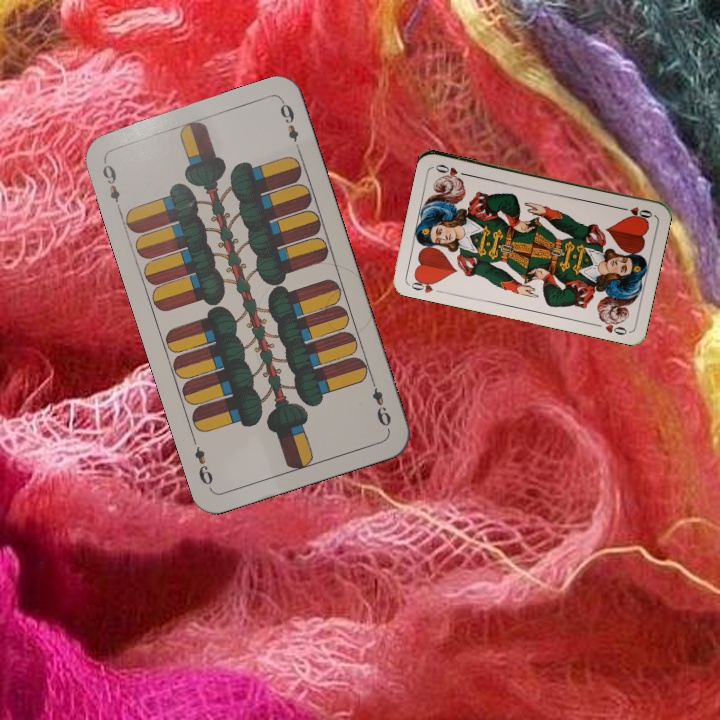E9: (366, 375, 394, 432), (98, 156, 124, 213)
HO: (405, 273, 440, 296), (615, 203, 655, 221)
